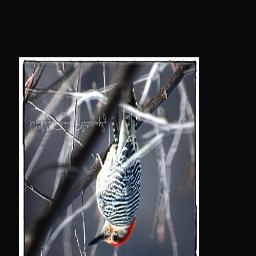Woodpecker: (85, 108, 144, 254)
